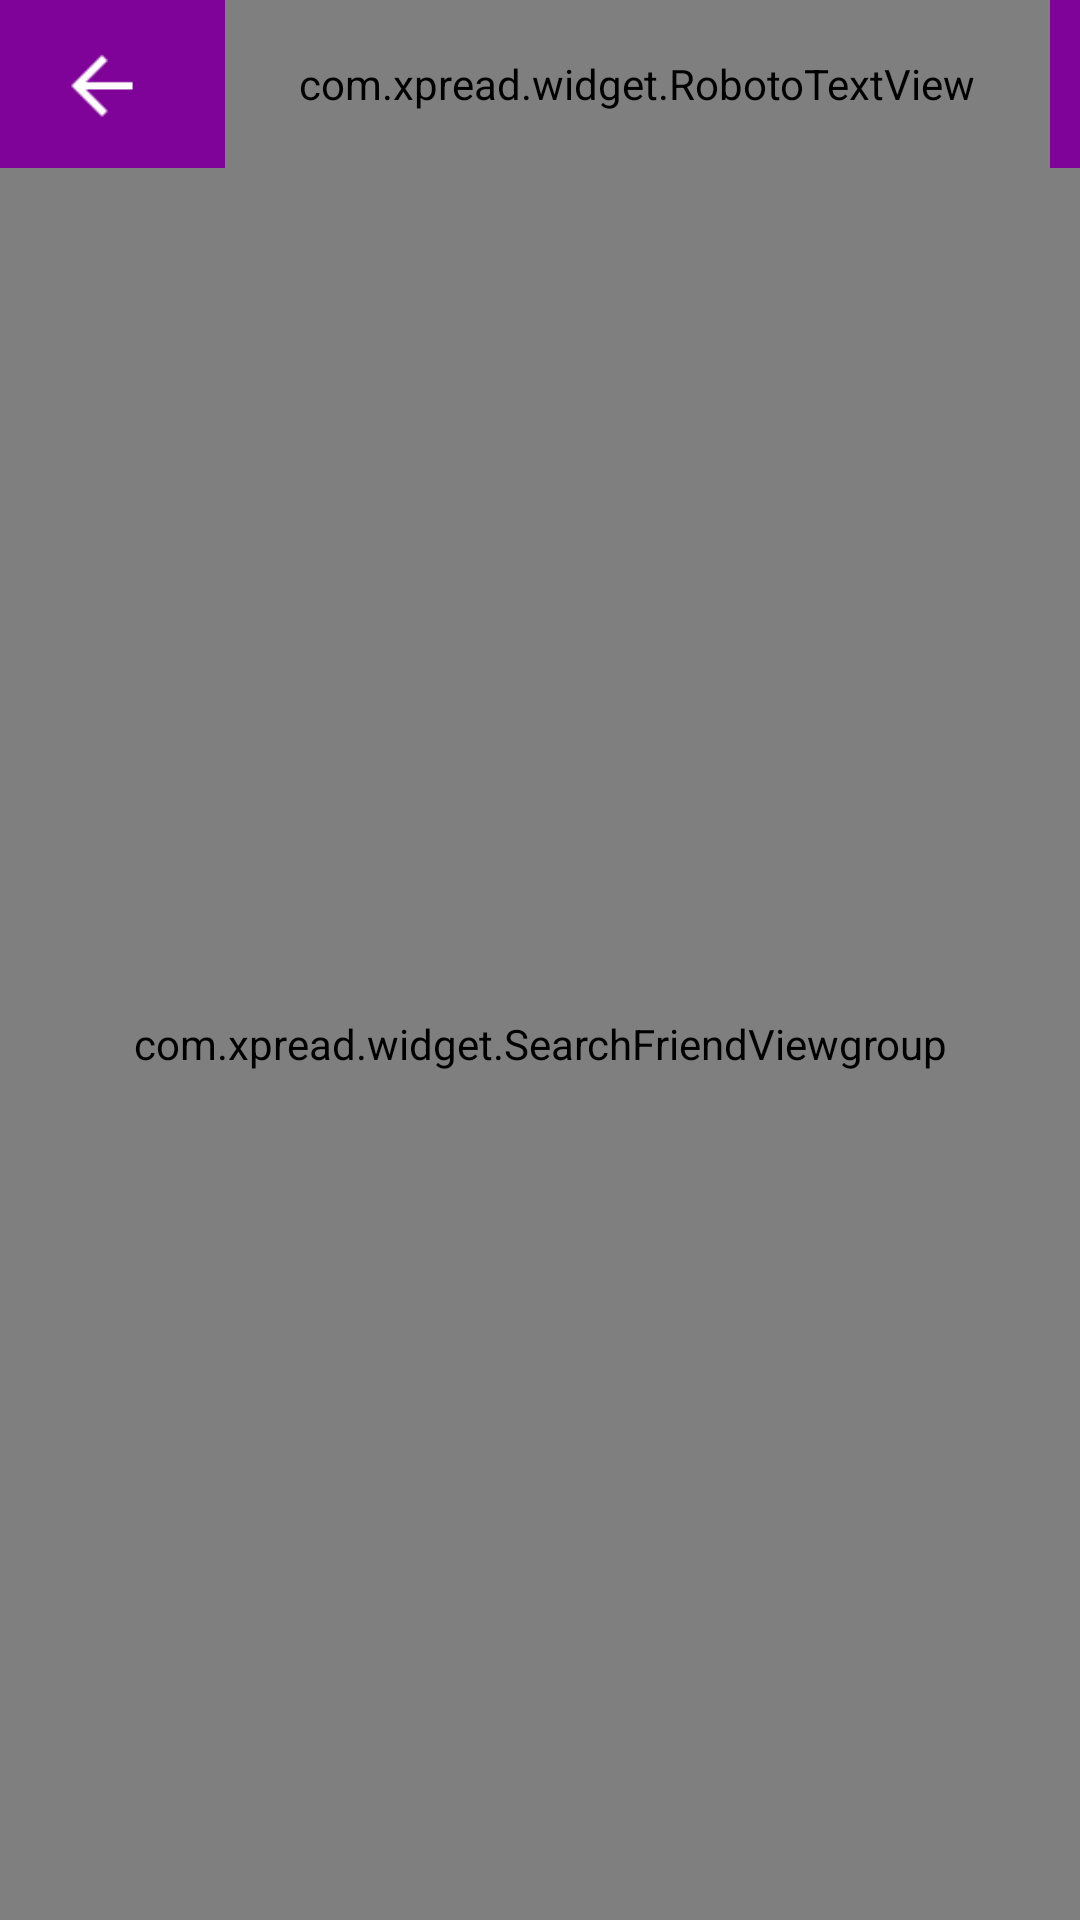

Screen size 1080 × 1920. Icon name, then its center in pixels as (x=x, y=y):
back: (x=102, y=86)
